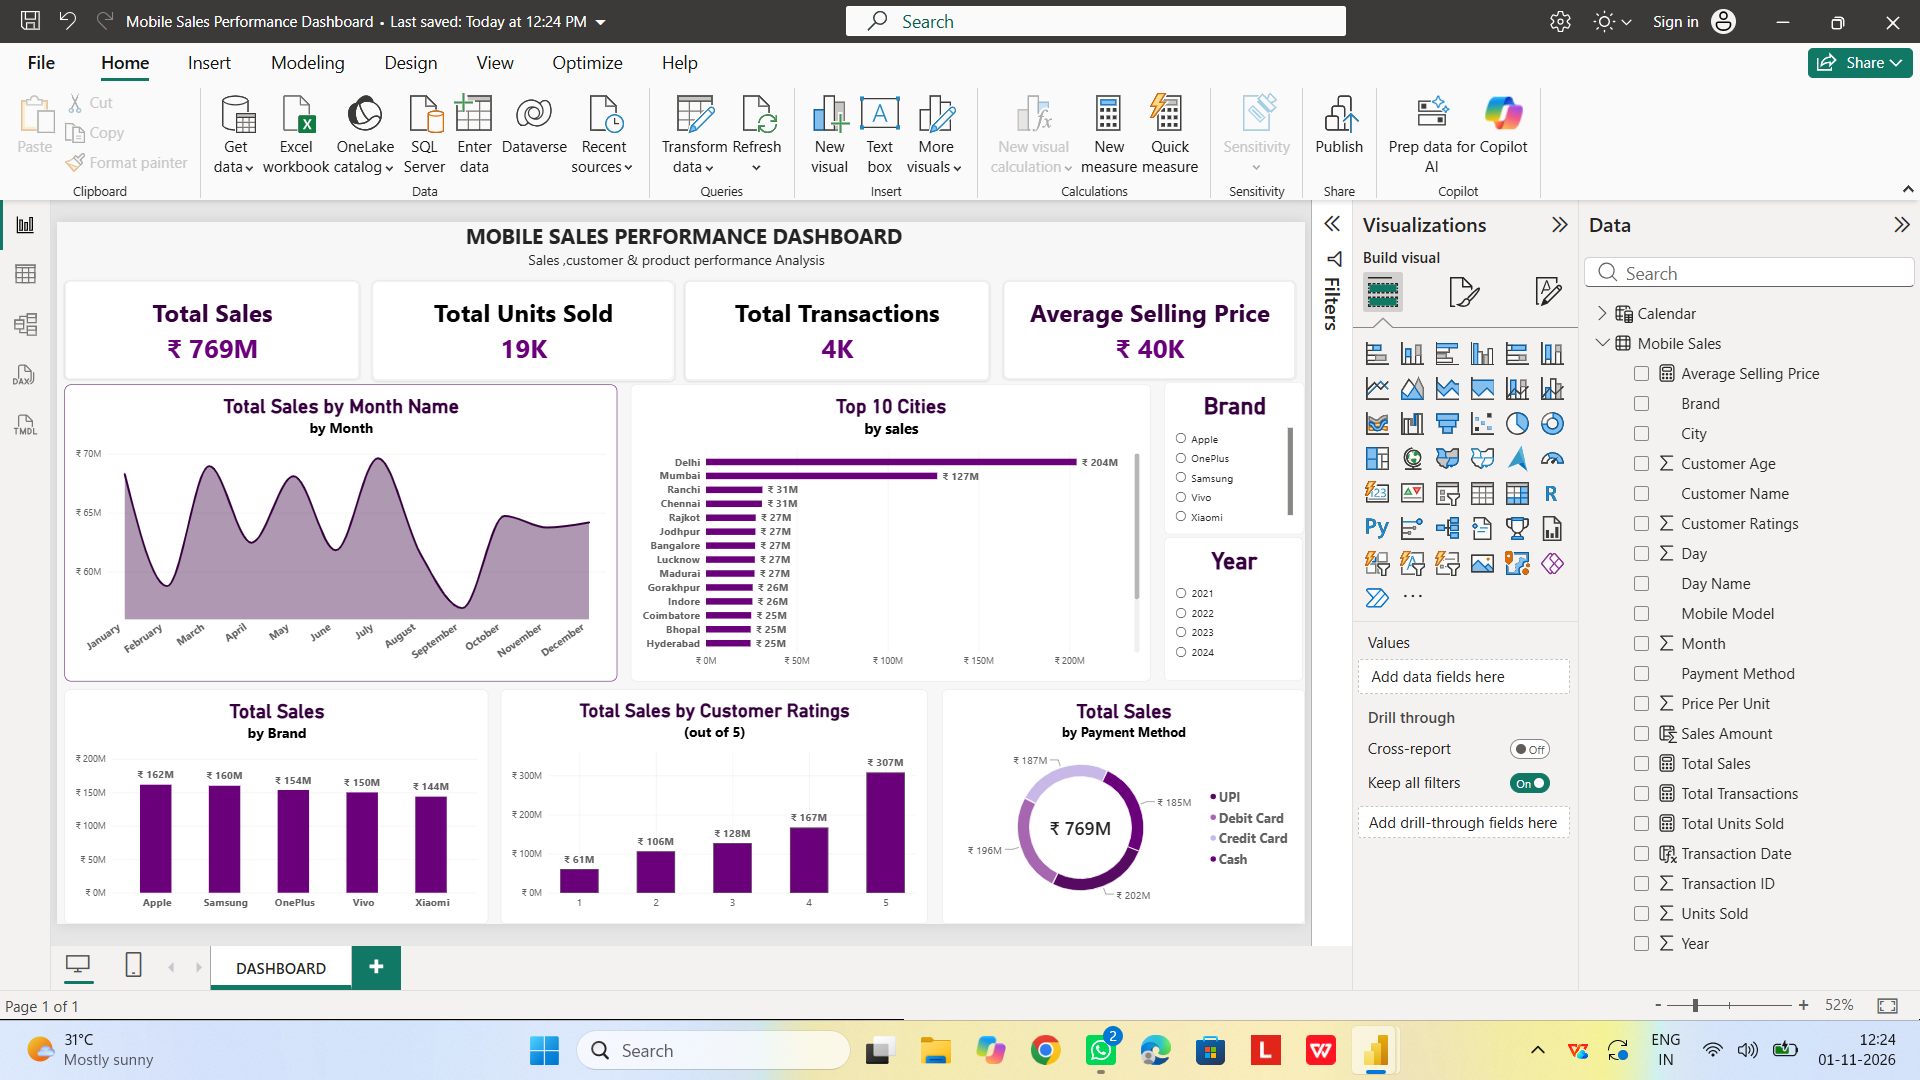

What the dashboard file says about the page in this screenshot:
{"tool":"powerbi","page":{"name":"DASHBOARD","canvas":[1920,1080],"ordinal":0},"visuals":[{"type":"areaChart","fields":{"Category":["Calendar.Month Name"],"Y":["Mobile Sales.Total Sales"]},"box":[10.9,250,850,456.5],"z":0},{"type":"clusteredBarChart","title":"Top 10 Cities","fields":{"Category":["Mobile Sales.City"],"Y":["Mobile Sales.Total Sales"]},"box":[882.6,250,800,456.5],"z":1000},{"type":"clusteredColumnChart","fields":{"Category":["Mobile Sales.Brand"],"Y":["Mobile Sales.Total Sales"]},"box":[10.9,719.6,652.2,360.9],"z":2000},{"type":"donutChart","fields":{"Category":["Mobile Sales.Payment Method"],"Y":["Mobile Sales.Total Sales"]},"box":[1360.9,719.6,558.7,360.9],"z":3000},{"type":"clusteredColumnChart","fields":{"Category":["Mobile Sales.Customer Ratings"],"Y":["Mobile Sales.Total Sales"]},"box":[682.6,719.6,656.5,360.9],"z":4000},{"type":"listSlicer","fields":{"Values":["Mobile Sales.Brand"]},"box":[1704.3,245.7,215.2,234.8],"z":5000},{"type":"listSlicer","fields":{"Values":["Mobile Sales.Year"]},"box":[1704.3,484.8,213,221.7],"z":6000},{"type":"cardVisual","fields":{"Data":["Mobile Sales.Total Sales"]},"box":[10.9,91.3,454.3,152.2],"z":7000},{"type":"cardVisual","fields":{"Data":["Mobile Sales.Total Units Sold"]},"box":[484.8,91.3,465.2,154.3],"z":8000},{"type":"cardVisual","fields":{"Data":["Mobile Sales.Total Transactions"]},"box":[965.2,91.3,469.6,154.3],"z":9000},{"type":"cardVisual","fields":{"Data":["Mobile Sales.Average Selling Price"]},"box":[1456.5,91.3,450,152.2],"z":10000},{"type":"textbox","box":[10,0,1910,82],"z":11000},{"type":"textbox","box":[0,42,1906,40],"z":12000}]}

Visuals, with their boxes on the page's 1920x1080 design canvas (x1, y1, x2, y2). These are canvas units, not pixel positions in the 1920x1080 screenshot, which may show the page scaled, cropped or inside an application window:
areaChart - Calendar.Month Name x Mobile Sales.Total Sales: [11, 250, 861, 706]
"Top 10 Cities" clusteredBarChart: [883, 250, 1683, 706]
clusteredColumnChart - Mobile Sales.Brand x Mobile Sales.Total Sales: [11, 720, 663, 1080]
donutChart - Mobile Sales.Payment Method x Mobile Sales.Total Sales: [1361, 720, 1920, 1080]
clusteredColumnChart - Mobile Sales.Customer Ratings x Mobile Sales.Total Sales: [683, 720, 1339, 1080]
listSlicer - Mobile Sales.Brand: [1704, 246, 1920, 480]
listSlicer - Mobile Sales.Year: [1704, 485, 1917, 706]
cardVisual - Mobile Sales.Total Sales: [11, 91, 465, 244]
cardVisual - Mobile Sales.Total Units Sold: [485, 91, 950, 246]
cardVisual - Mobile Sales.Total Transactions: [965, 91, 1435, 246]
cardVisual - Mobile Sales.Average Selling Price: [1456, 91, 1906, 244]
textbox: [10, 0, 1920, 82]
textbox: [0, 42, 1906, 82]
